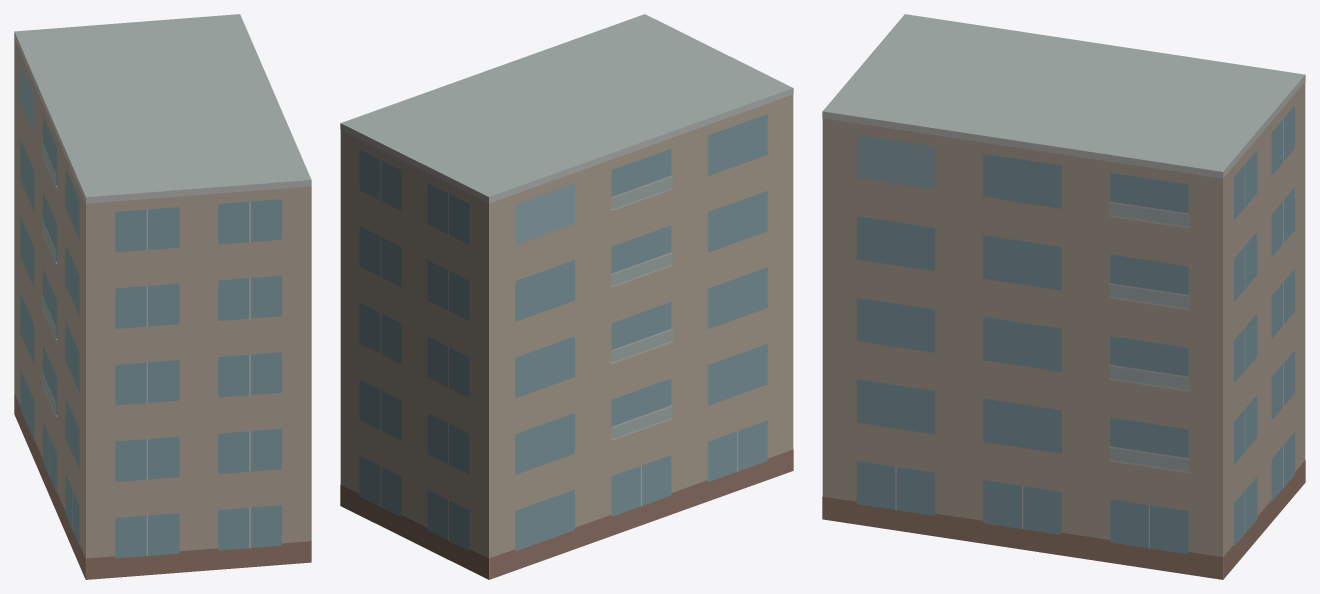
The model's file is survey-upis-32884958.glb.
3 views of the same model, side by side, from view 1: azimuth 30°, elevation 25°; view 2: azimuth 150°, elevation 25°; view 3: azimuth 270°, elevation 25° (orthographic). The views are drawn at different scales.
Visible parts, largest first — view 1: survey-upis-32884958.tmp; view 2: survey-upis-32884958.tmp; view 3: survey-upis-32884958.tmp.
Part boxes in pixels (left/top/right/bottom): survey-upis-32884958.tmp: left=14, top=14, right=311, bottom=579; survey-upis-32884958.tmp: left=340, top=14, right=793, bottom=579; survey-upis-32884958.tmp: left=822, top=14, right=1305, bottom=579.
Size of the model in its own units: 12.09 by 14.55 by 15.62.
